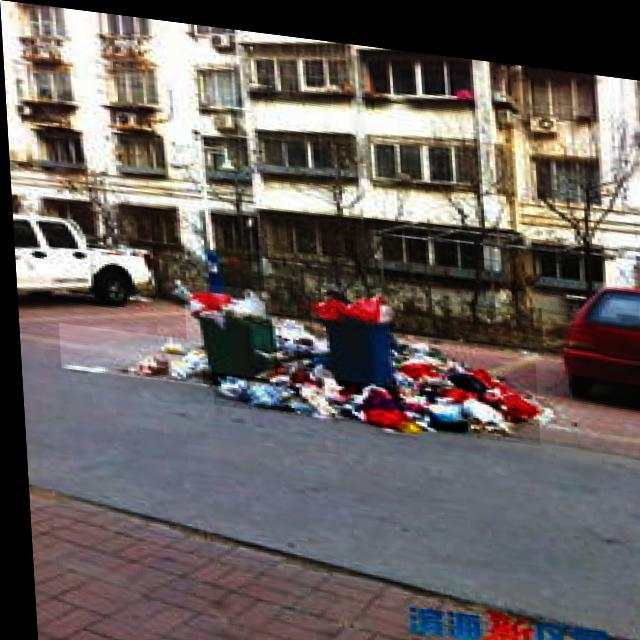garbage: (206, 315, 536, 432), (55, 322, 199, 381)
overflow: (180, 277, 271, 373), (307, 274, 389, 377)
